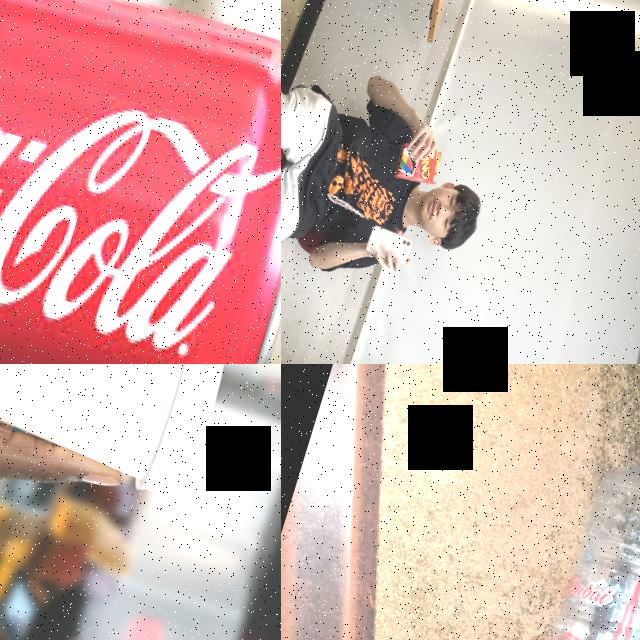bottle: (504, 412, 640, 640)
can: (0, 0, 281, 364)
cup: (0, 364, 240, 504)
